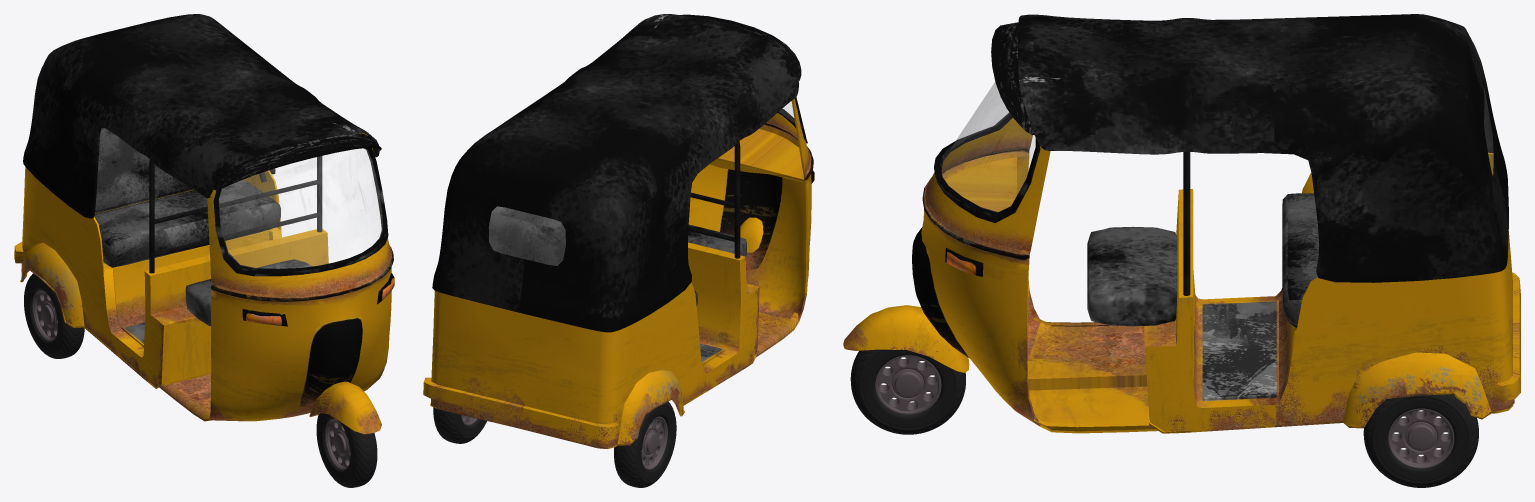
The model's file is bajaji.glb.
3 renders of one model, left to right at view 1: azimuth 30°, elevation 25°; view 2: azimuth 150°, elevation 25°; view 3: azimuth 270°, elevation 25°, orthographic. The views are drawn at different scales.
Parts seen in each view (by area): view 1: Plane.001, Plane.002, Plane.003, Rin, Rin.001; view 2: Plane.002, Plane.001, Rin.001, Plane.003; view 3: Plane.002, Plane.001, Rin.001, Rin, Plane.003.
Part boxes in pixels (x1,y1,x2,y2): Plane.001: (14,133,394,434); Plane.002: (23,14,379,326); Plane.003: (219,148,382,268); Rin: (316,413,377,487); Rin.001: (24,273,84,358); Plane.002: (432,14,798,332); Plane.001: (423,14,814,448); Rin.001: (433,401,676,487); Plane.003: (489,102,794,265); Plane.002: (1018,14,1508,327); Plane.001: (843,22,1520,433); Rin.001: (1363,394,1478,487); Rin: (850,349,965,434); Plane.003: (941,82,1493,212).
Bounding box in the file's own units: 1.24 × 1.82 × 2.89.
5 materials, 3 textured.
